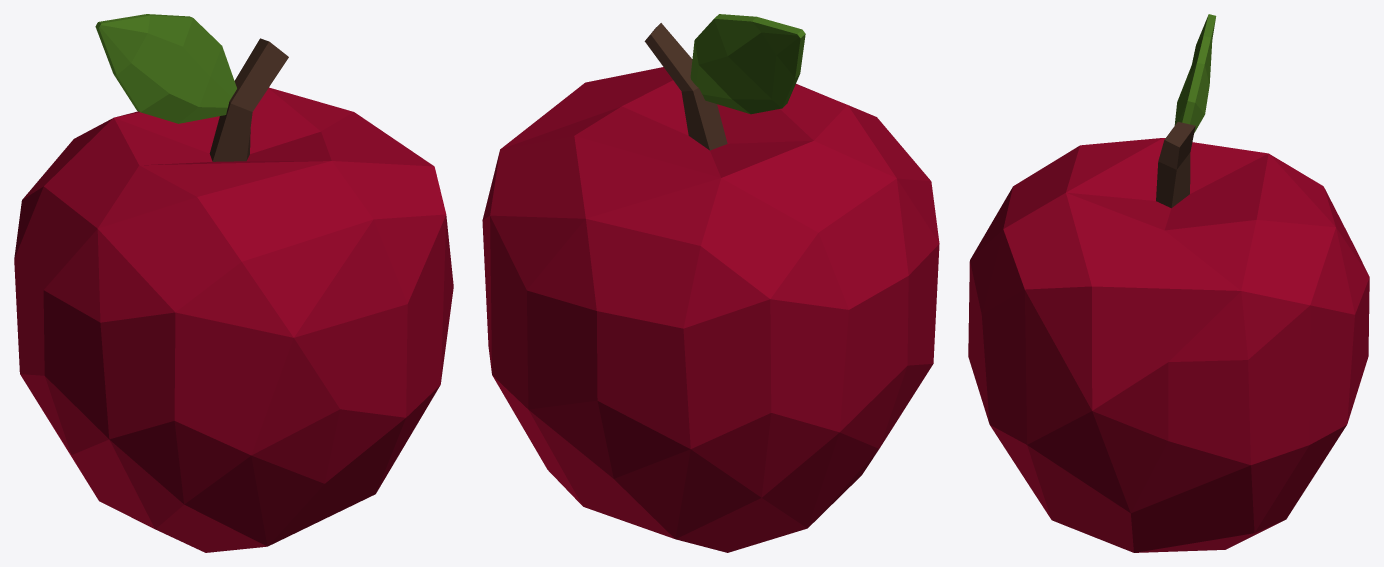
Rendered from apple.glb.
3 renders of one model, left to right at view 1: azimuth 30°, elevation 25°; view 2: azimuth 150°, elevation 25°; view 3: azimuth 270°, elevation 25°, orthographic. The views are drawn at different scales.
Visible parts, largest first — view 1: apple.003; view 2: apple.003; view 3: apple.003.
Part boxes in pixels (left/top/right/bottom): apple.003: left=14, top=14, right=453, bottom=552; apple.003: left=482, top=14, right=939, bottom=552; apple.003: left=968, top=14, right=1369, bottom=552.
Bounding box in the file's own units: 1.53 × 1.97 × 1.52.
